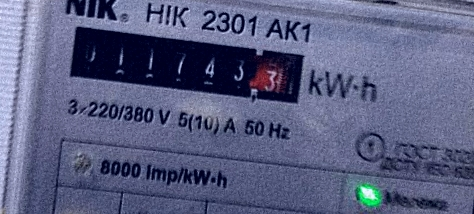0: (82, 36, 99, 65)
1: (143, 42, 158, 71), (114, 39, 127, 67)
3: (231, 55, 248, 84), (261, 68, 278, 94)
4: (201, 52, 218, 80)
7: (172, 46, 190, 75)
screen: (57, 14, 317, 116)
